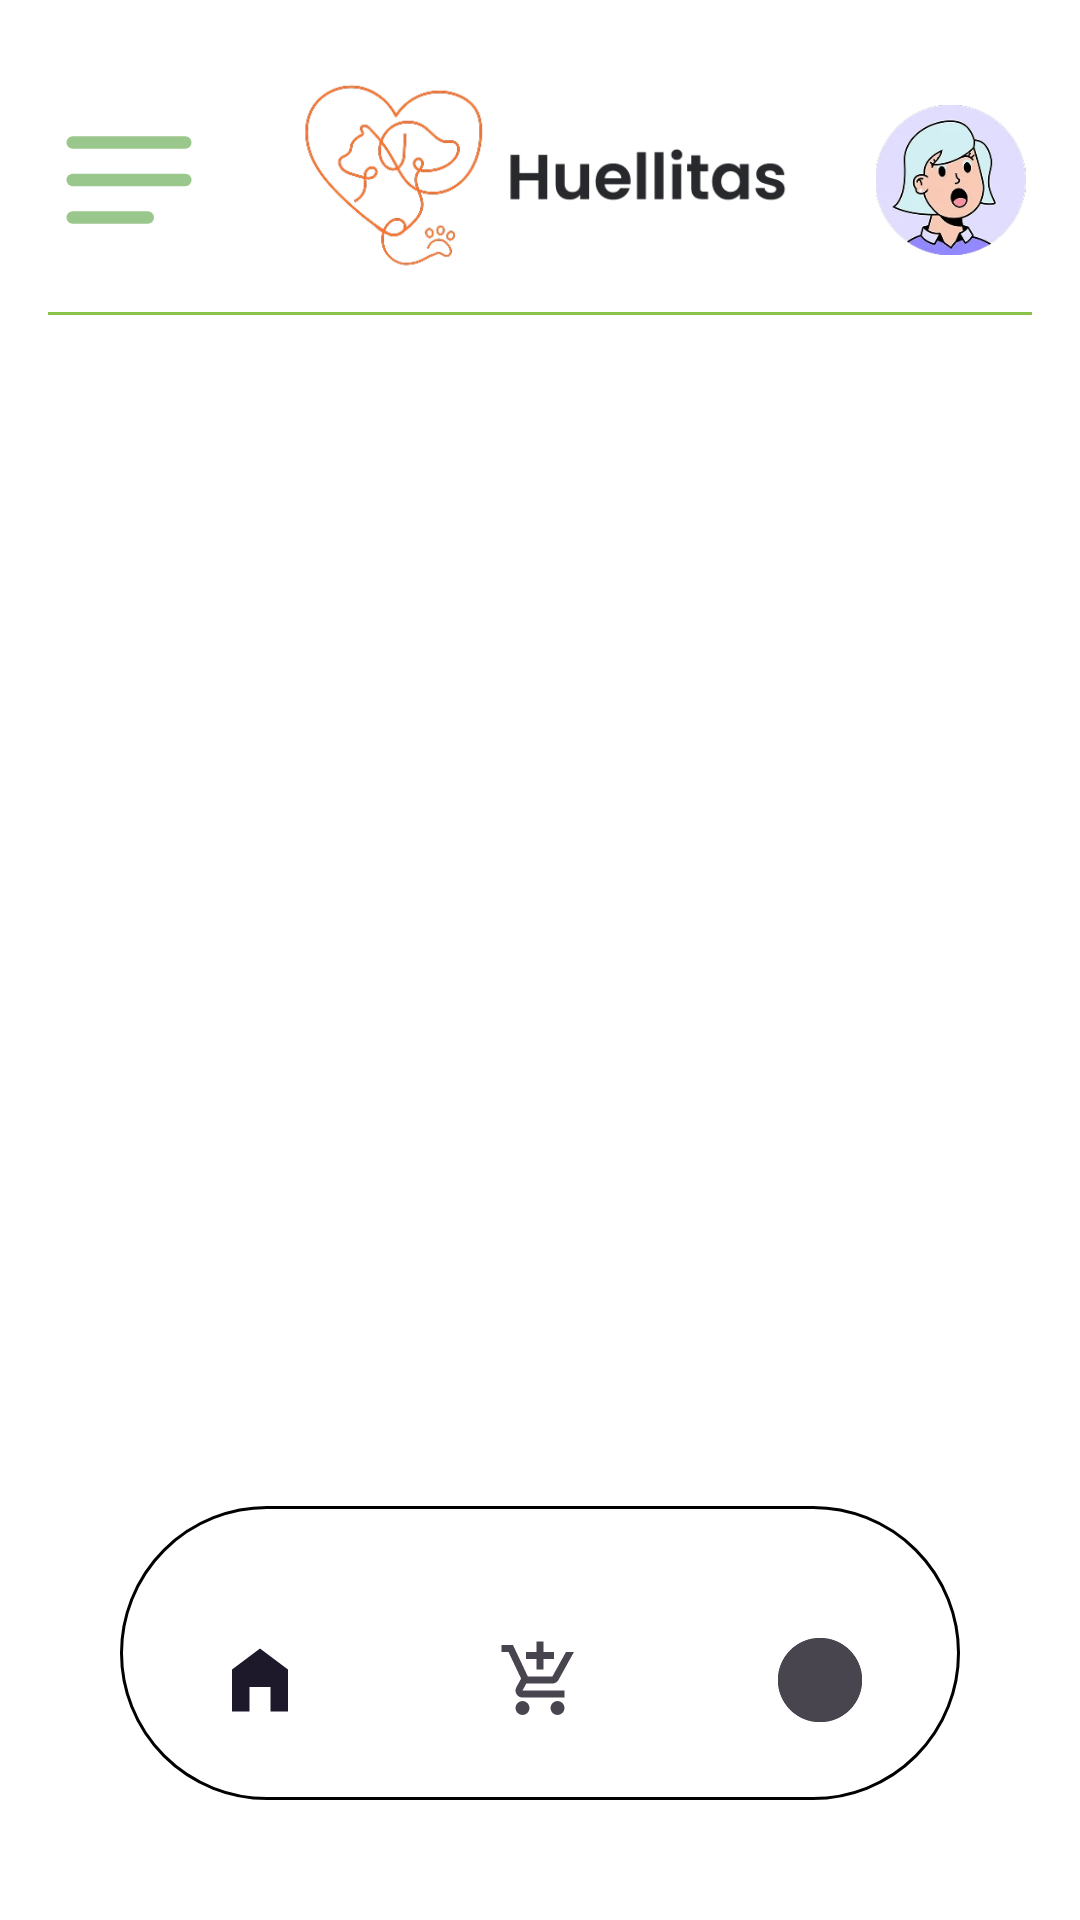

Icons on this 1080px x 1920px Android screen, each with its box as BBox(x1, y1, x2, y2):
hamburguer: BBox(66, 136, 192, 224)
